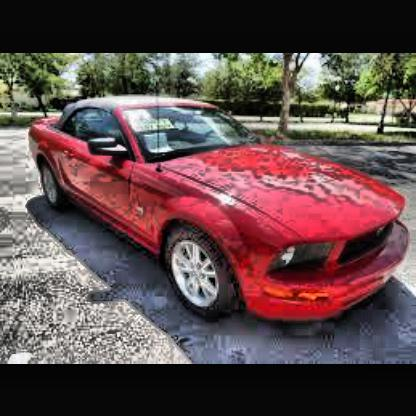Ford Mustang Convertible 2007: (27, 92, 415, 329)
